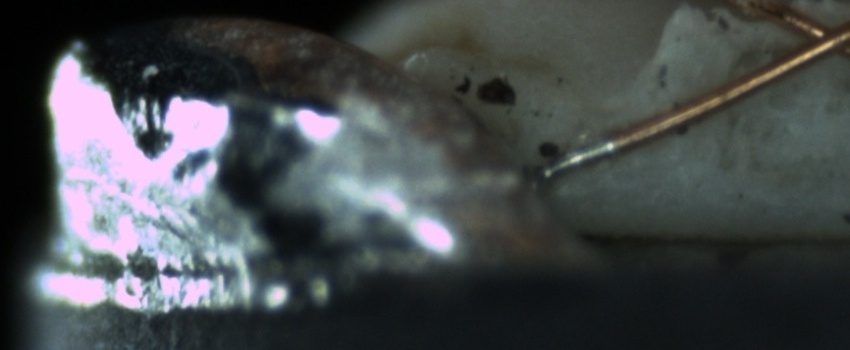CL: (772, 5, 850, 69)
TS: (540, 133, 620, 181)
